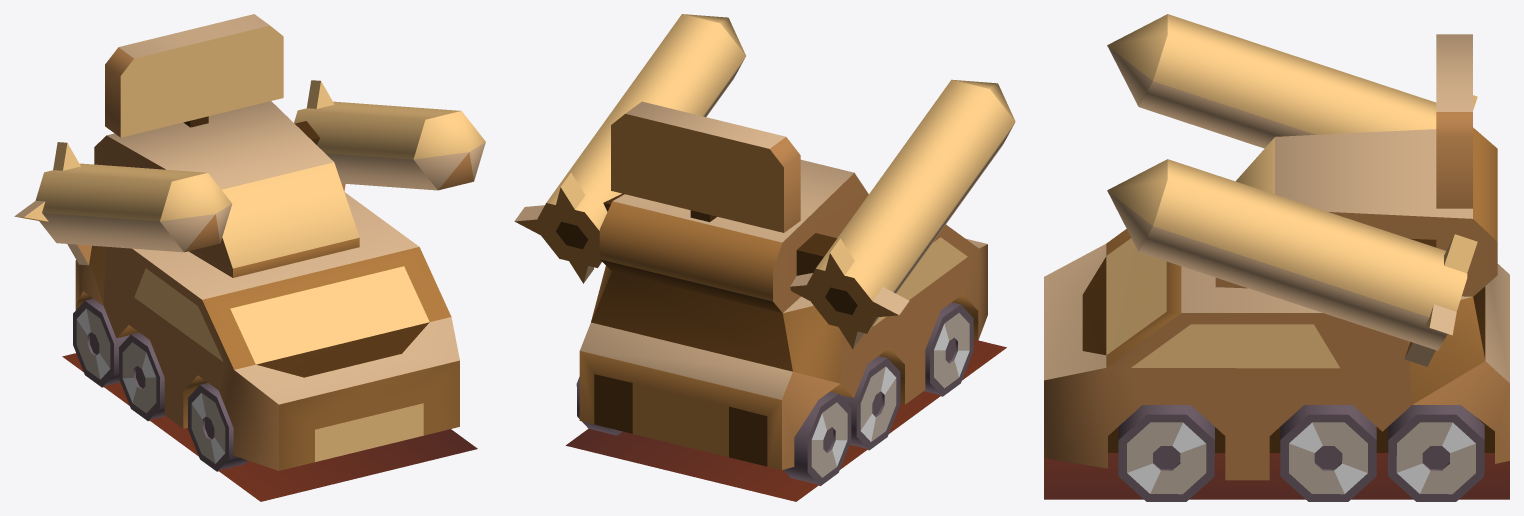
The model's file is MissileMesh.BrownDesert.glb.
3 renders of one model, left to right at view 1: azimuth 30°, elevation 25°; view 2: azimuth 150°, elevation 25°; view 3: azimuth 270°, elevation 25°, orthographic. The views are drawn at different scales.
Visible parts, largest first — view 1: MissileMesh.BrownDesert; view 2: MissileMesh.BrownDesert; view 3: MissileMesh.BrownDesert.
Part boxes in pixels (left/top/right/bottom): MissileMesh.BrownDesert: left=14, top=14, right=485, bottom=501; MissileMesh.BrownDesert: left=514, top=14, right=1015, bottom=501; MissileMesh.BrownDesert: left=1044, top=14, right=1509, bottom=501.
Size of the model in its own units: 2 by 1.65 by 1.9.
Materials: 1 (1 with a texture image).
